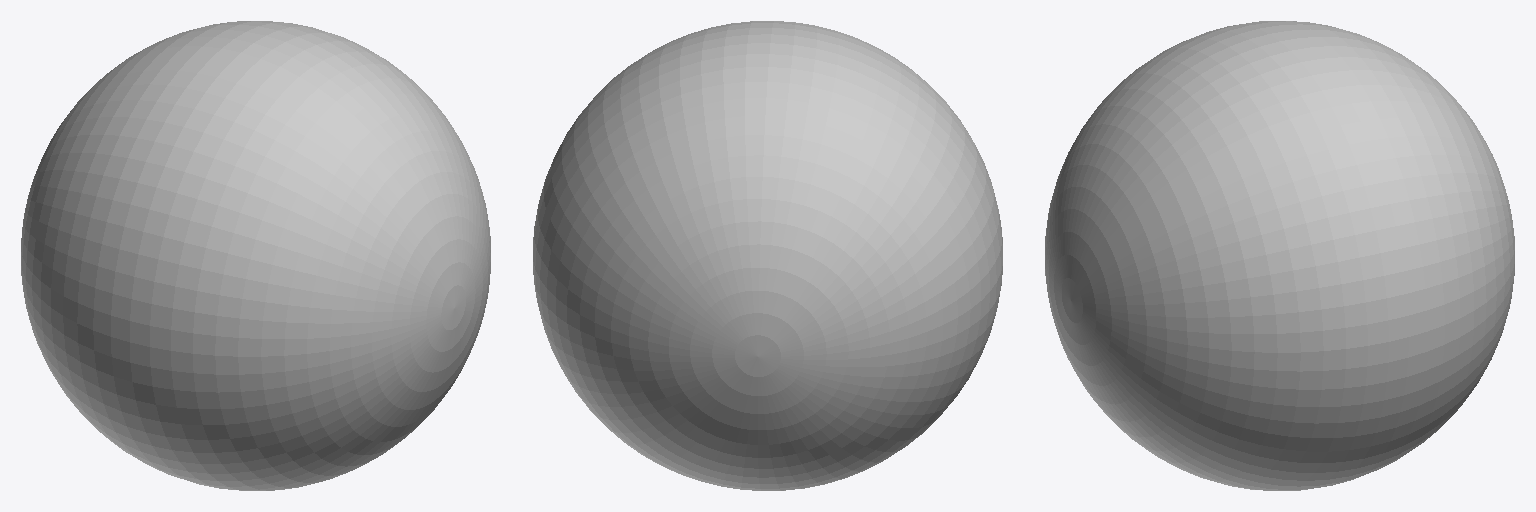
The model's file is sphereD.obj.
3 renders of one model, left to right at view 1: azimuth 30°, elevation 25°; view 2: azimuth 150°, elevation 25°; view 3: azimuth 270°, elevation 25°, orthographic.
Visible parts, largest first — view 1: object_1; view 2: object_1; view 3: object_1.
Boxes of the visible parts, <box> form: object_1: <box>21,21,490,490</box>; object_1: <box>533,21,1002,490</box>; object_1: <box>1045,21,1514,490</box>.
Size of the model in its own units: 12.56 by 12.56 by 12.56.